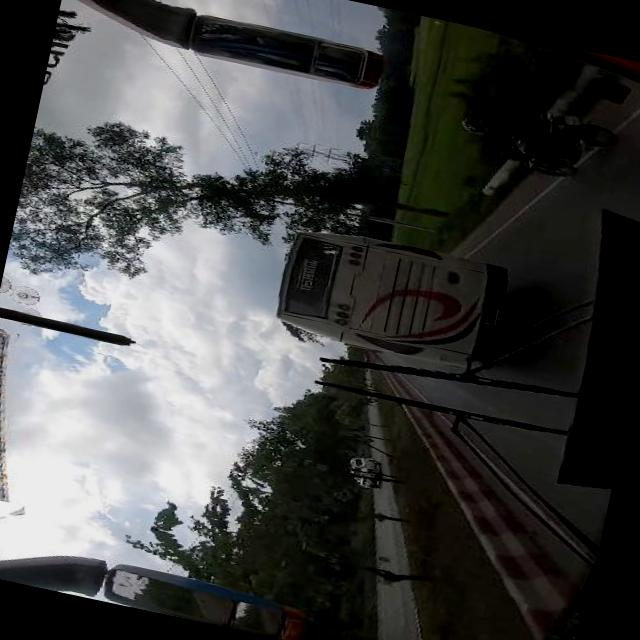bus: (268, 214, 510, 374)
car: (342, 452, 382, 487)
motorcycle: (448, 93, 612, 185)
